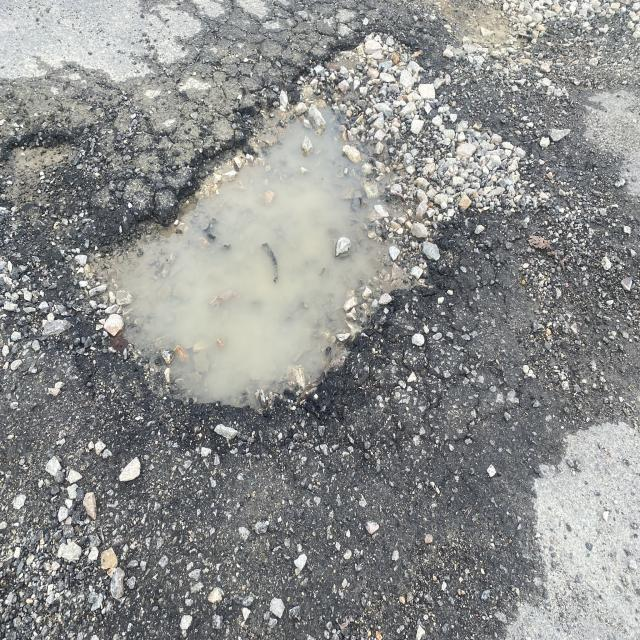pothole: (117, 43, 522, 472), (15, 62, 84, 220)
